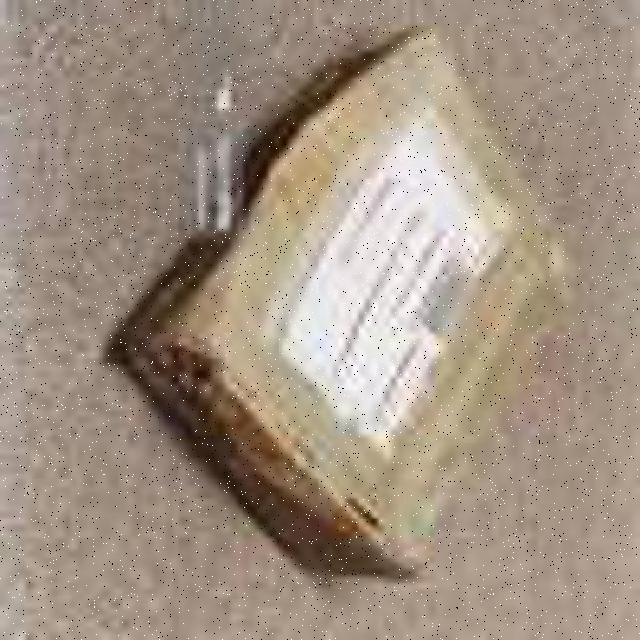defect: (111, 29, 563, 583)
